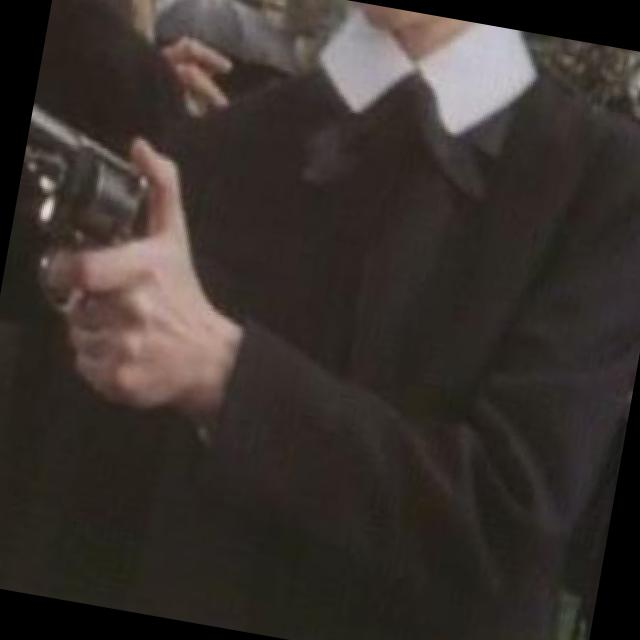Guns: (0, 62, 217, 343)
